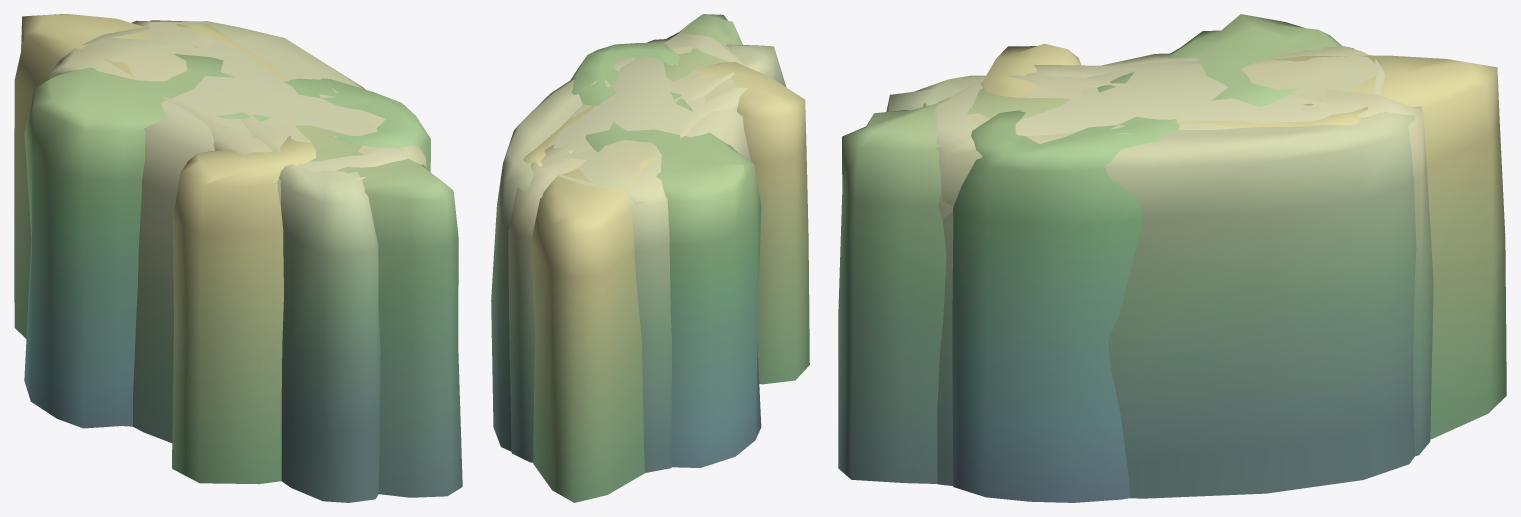
The model's file is Mountains.fbx.
3 views of the same model, side by side, from view 1: azimuth 30°, elevation 25°; view 2: azimuth 150°, elevation 25°; view 3: azimuth 270°, elevation 25° (orthographic). The views are drawn at different scales.
Visible parts, largest first — view 1: Mountain_Far5, Mountain_Far4, Mountain_Far3, Mountain_Far2, Mountain_Far6, Mountain_Far; view 2: Mountain_Far3, Mountain_Far5, Mountain_Far, Mountain_Far4, Mountain_Far2, Mountain_Far6; view 3: Mountain_Far, Mountain_Far5, Mountain_Far3, Mountain_Far6, Mountain_Far2, Mountain_Far4.
Part boxes in pixels (x1,y1,x2,y2): Mountain_Far5: (24, 54, 430, 428); Mountain_Far4: (172, 23, 337, 484); Mountain_Far3: (14, 14, 462, 497); Mountain_Far2: (131, 20, 380, 502); Mountain_Far6: (57, 26, 413, 442); Mountain_Far: (49, 20, 426, 189); Mountain_Far3: (531, 14, 742, 502); Mountain_Far5: (570, 43, 761, 467); Mountain_Far: (491, 39, 747, 472); Mountain_Far4: (523, 62, 809, 384); Mountain_Far2: (508, 44, 786, 462); Mountain_Far6: (551, 33, 751, 327); Mountain_Far: (936, 46, 1416, 498); Mountain_Far5: (952, 14, 1342, 502); Mountain_Far3: (838, 55, 1506, 483); Mountain_Far6: (923, 53, 1385, 218); Mountain_Far2: (886, 75, 1433, 456); Mountain_Far4: (981, 43, 1368, 127).
Size of the model in its own units: 18843 by 19998 by 34917.
